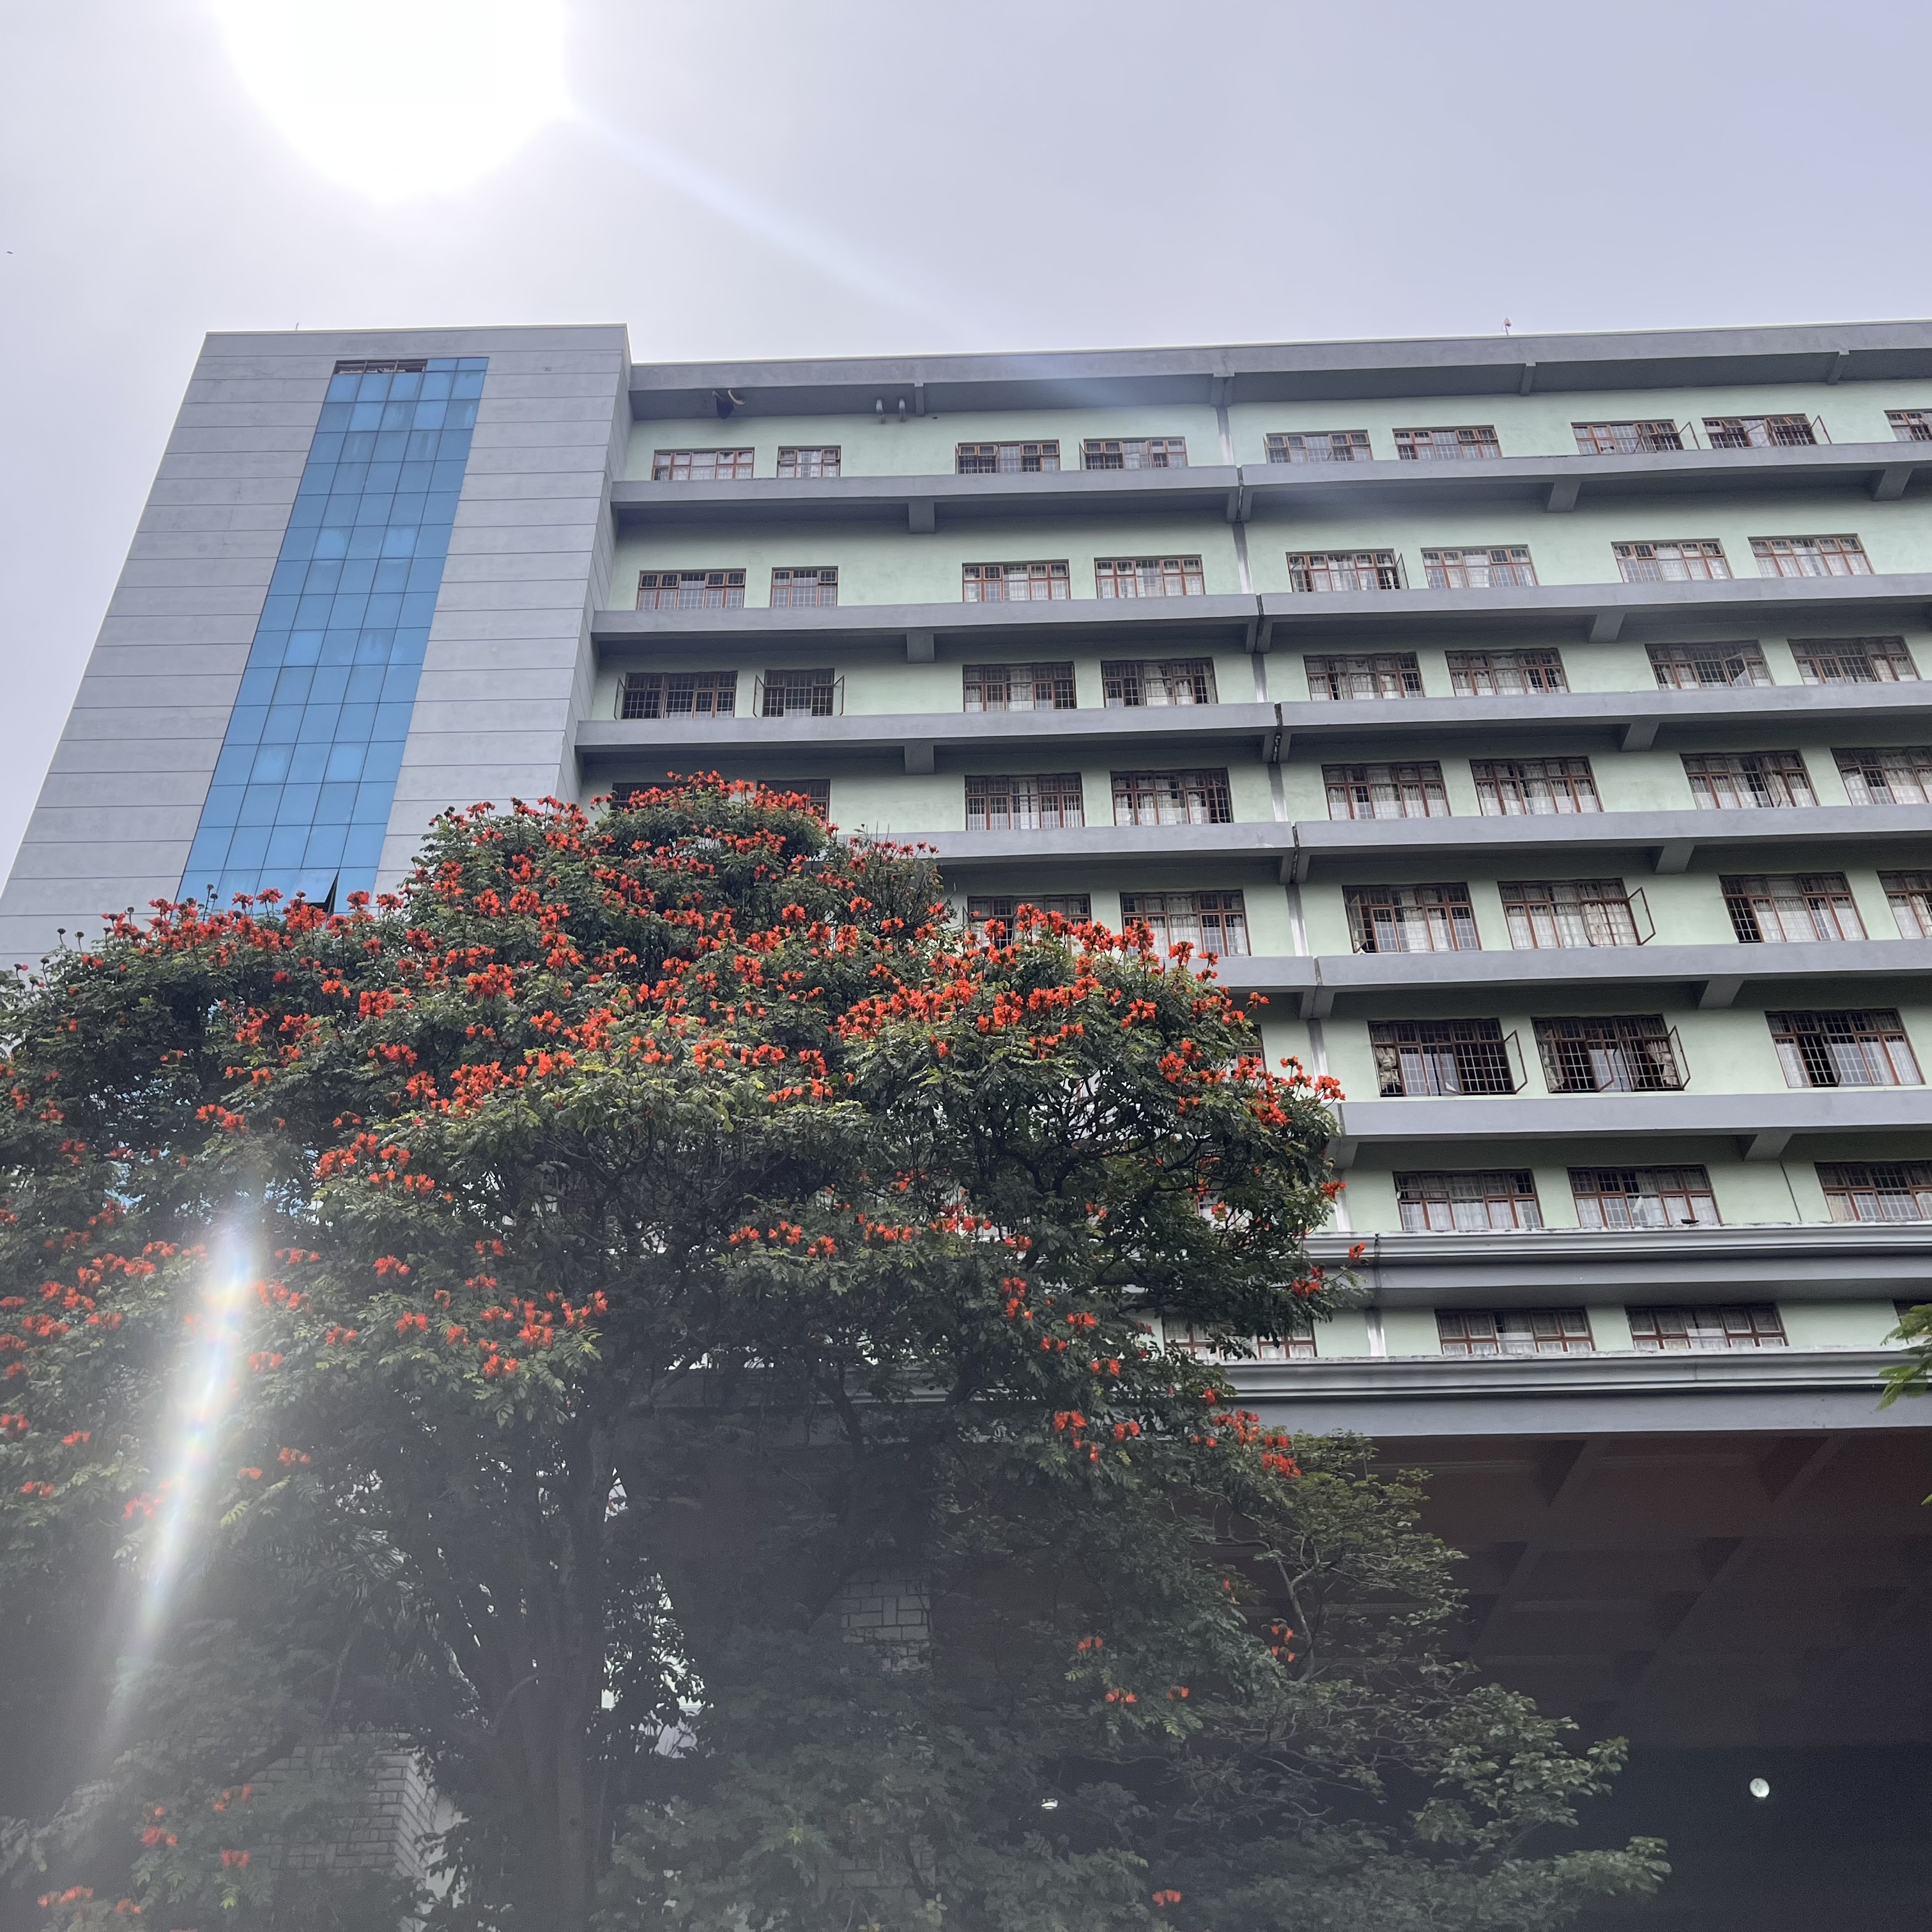Central Block: (44, 292, 1932, 1497)
